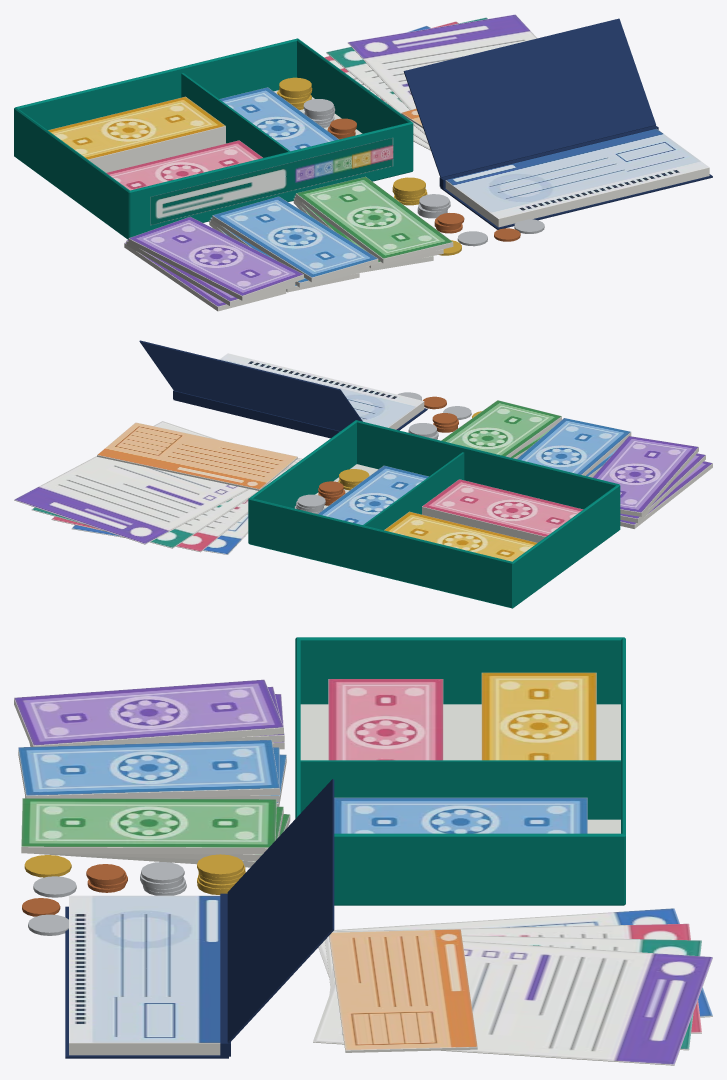
The model's file is item-79.glb.
The picture shows the model from 3 angles, top to bottom: view 1: azimuth 30°, elevation 25°; view 2: azimuth 150°, elevation 25°; view 3: azimuth 270°, elevation 25°; orthographic projection. The views are drawn at different scales.
Parts seen in each view (by area): view 1: chq_cover, chq_leaves_print, tray_wall.001, tray_label, form3_print, fan0_2_print, fan1_2_print, fan2_2_print, tray_wall, tray_wall.002, bundle_y_print, tray_wall.003 (+15 smaller); view 2: tray_wall.001, form3_print, tray_wall, chq_cover, slip_print, tray_wall.002, bundle_p_print, fan0_2_print, tray_wall.003, fan1_2_print, fan2_2_print, bundle_y_print (+11 smaller); view 3: form3_print, chq_leaves_print, tray_wall.003, chq_cover, slip_print, tray_wall.002, divider, fan0_2_print, fan1_2_print, fan2_2_print, bundle_y_print, bundle_p_print (+19 smaller).
Part boxes in pixels (x1,y1,x2,y2): chq_cover: (403,18,655,177); chq_leaves_print: (446,128,709,218); tray_wall.001: (14,38,297,155); tray_label: (150,137,393,225); form3_print: (348,14,537,109); fan0_2_print: (129,216,303,295); fan1_2_print: (212,196,377,277); fan2_2_print: (296,176,452,258); tray_wall: (128,122,411,238); tray_wall.002: (14,107,131,238); bundle_y_print: (48,96,225,159); tray_wall.003: (297,38,413,171); tray_wall.001: (249,498,514,607); form3_print: (14,421,293,543); tray_wall: (356,420,620,528); chq_cover: (139,340,362,430); slip_print: (97,422,297,489); tray_wall.002: (511,484,619,608); bundle_p_print: (422,479,583,536); fan0_2_print: (592,436,698,512); tray_wall.003: (248,420,356,544); fan1_2_print: (517,418,630,474); fan2_2_print: (441,400,561,456); bundle_y_print: (384,511,537,561); form3_print: (313,941,712,1064); chq_leaves_print: (69,895,220,1042); tray_wall.003: (334,833,625,905); chq_cover: (227,779,334,1043); slip_print: (329,929,477,1050); tray_wall.002: (295,637,625,704); divider: (300,760,620,819); fan0_2_print: (14,679,283,745); fan1_2_print: (18,739,279,795); fan2_2_print: (21,798,276,847); bundle_y_print: (481,672,596,760); bundle_p_print: (328,679,443,760).
Bounding box in the file's own units: 0.5027 × 0.0822 × 0.4014.
8 materials, 1 textured.
